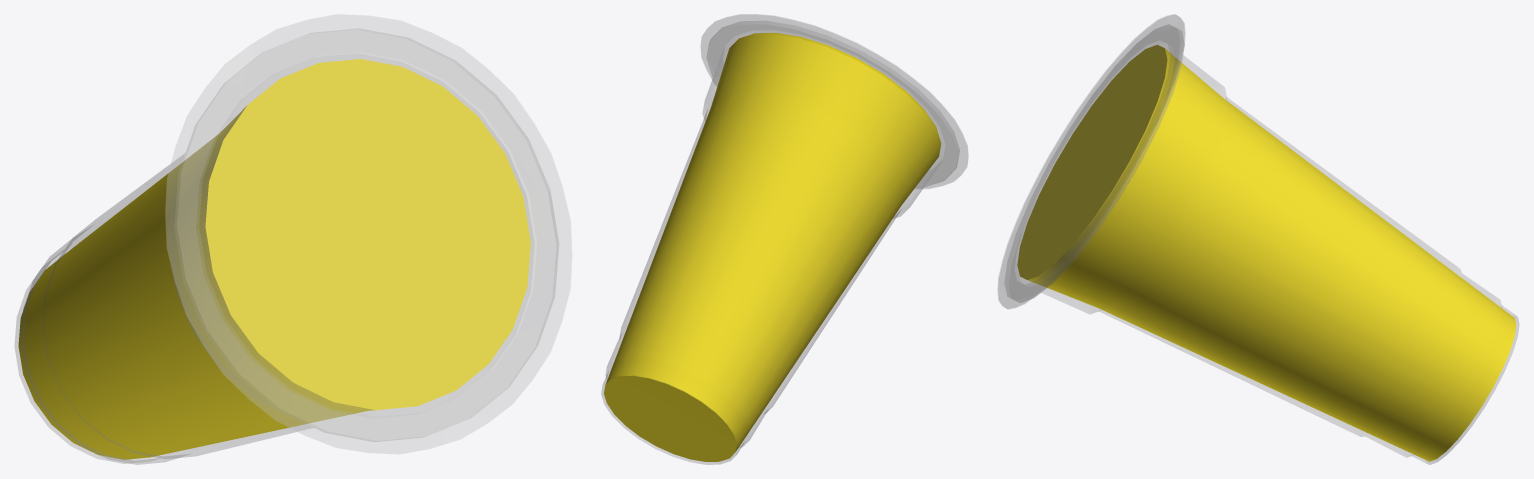
Rendered from ref_bfcornjuice.fbx.
The picture shows the model from 3 angles, left to right: view 1: azimuth 30°, elevation 25°; view 2: azimuth 150°, elevation 25°; view 3: azimuth 270°, elevation 25°; orthographic projection. The views are drawn at different scales.
Visible parts, largest first — view 1: ref_bfcornjuice_part0, ref_bfcornjuice_part1; view 2: ref_bfcornjuice_part0, ref_bfcornjuice_part1; view 3: ref_bfcornjuice_part0, ref_bfcornjuice_part1.
Part boxes in pixels (box(x1,y1,x2,y2)): ref_bfcornjuice_part0: box(14, 14, 571, 464); ref_bfcornjuice_part1: box(18, 59, 530, 459); ref_bfcornjuice_part0: box(601, 14, 968, 464); ref_bfcornjuice_part1: box(604, 32, 941, 461); ref_bfcornjuice_part0: box(998, 14, 1519, 464); ref_bfcornjuice_part1: box(1017, 45, 1516, 461).
Bounding box in the file's own units: 65.06 × 89.2 × 100.
